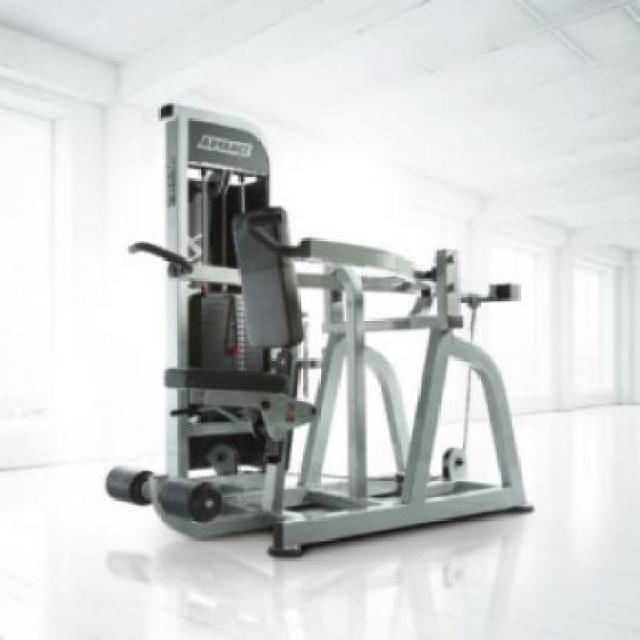seated dip machine: (110, 103, 538, 555)
